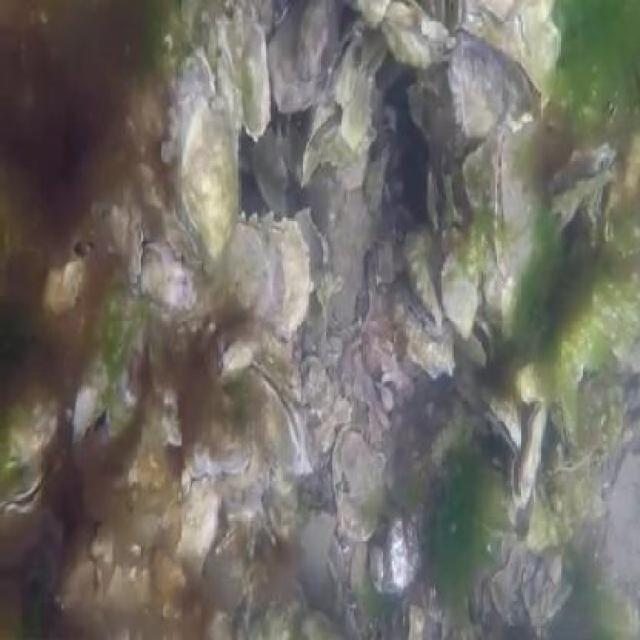Oyster- Indeterminate: (173, 98, 246, 265), (225, 213, 323, 327), (205, 16, 278, 140), (329, 424, 386, 557), (387, 310, 469, 390), (482, 543, 564, 621), (394, 219, 449, 319), (328, 54, 381, 151), (130, 244, 209, 307), (94, 195, 152, 278), (186, 416, 258, 478), (454, 143, 512, 218), (370, 512, 419, 595), (295, 104, 341, 189), (141, 389, 196, 458), (439, 247, 479, 341), (183, 478, 216, 584), (404, 82, 451, 143), (297, 614, 342, 640)
Oyster-Closed: (447, 36, 513, 149), (283, 0, 342, 94), (388, 22, 429, 78)
Oyster-Open: (239, 365, 330, 472), (475, 126, 530, 268), (0, 448, 50, 528), (468, 387, 528, 453), (200, 328, 264, 388), (514, 402, 547, 512), (449, 311, 505, 372), (67, 391, 120, 446)
